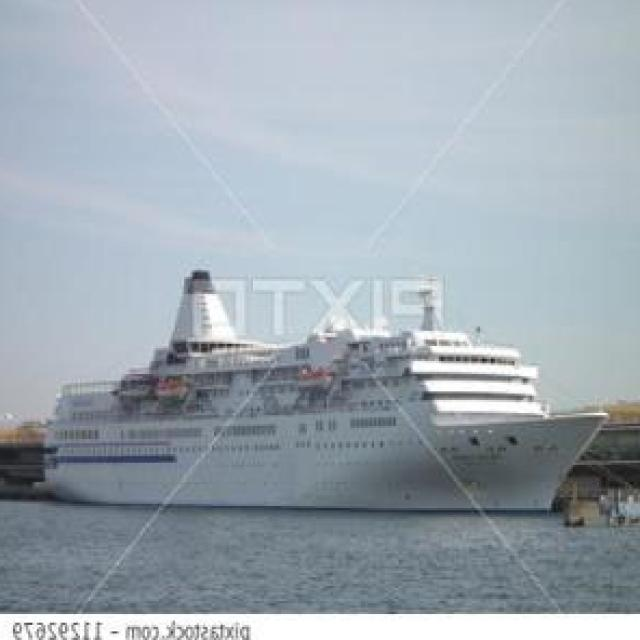passenger ship: (47, 275, 604, 508)
